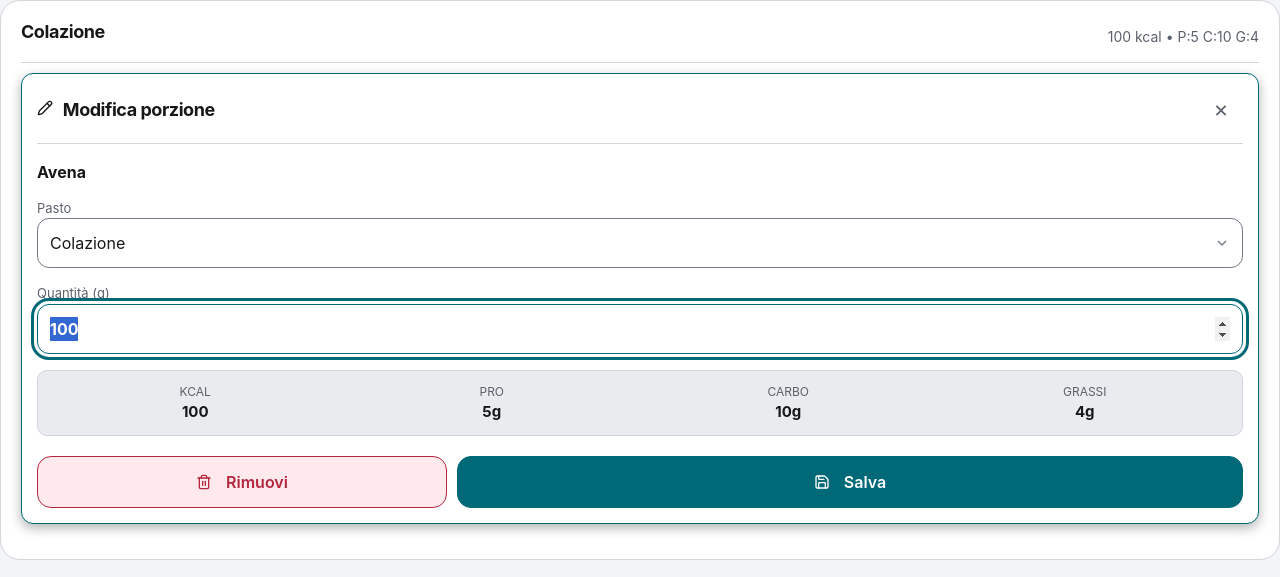
Scenario: NutritionMeals decomposition parity › keeps an unsaved quantity editable until the asynchronous device commit succeeds
The image size is (1280, 577).
Replace the text in the number field with "75" at (640, 328), box [37,304,1243,354]
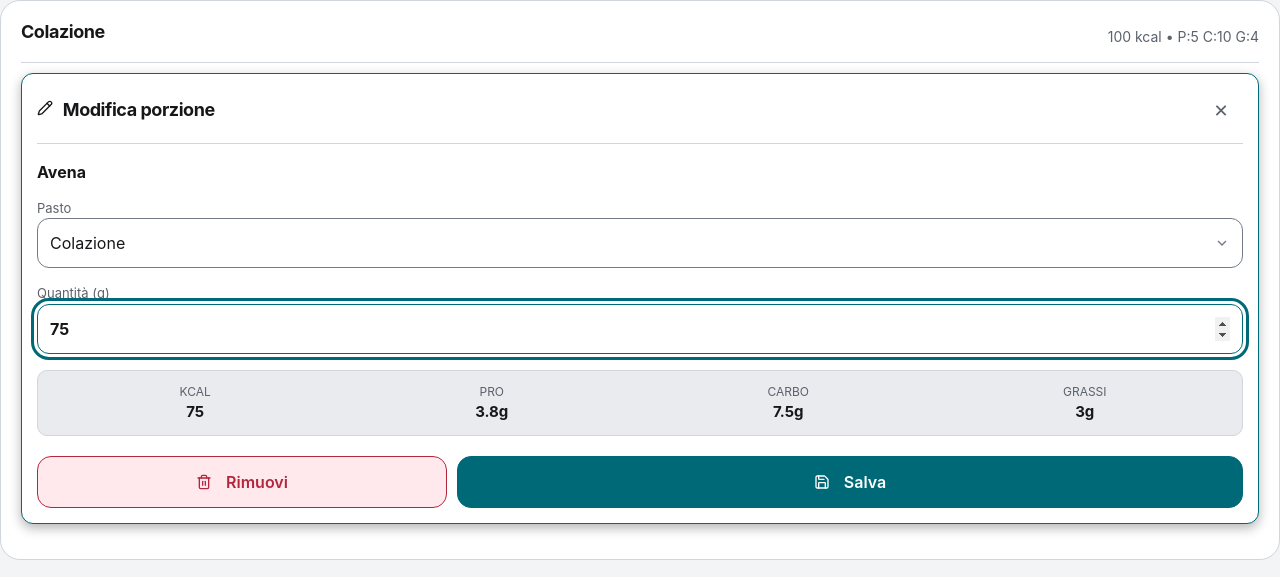
Click the button "Salva" at (850, 482), box [457,456,1243,508]
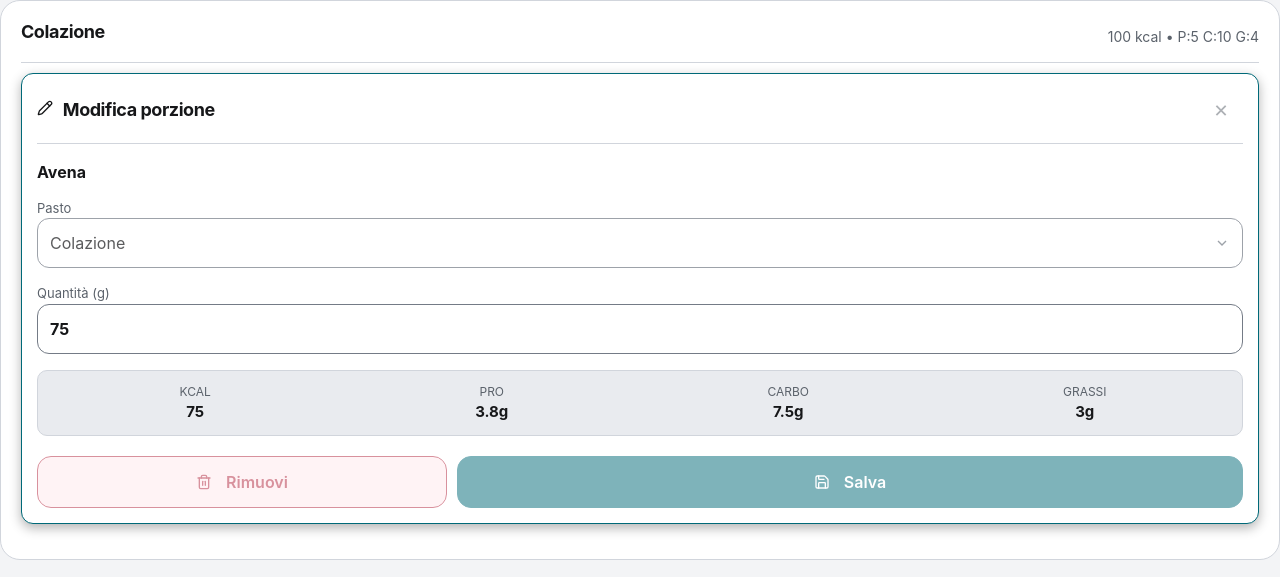
Click the button "Salva" at (850, 482), box [457,456,1243,508]
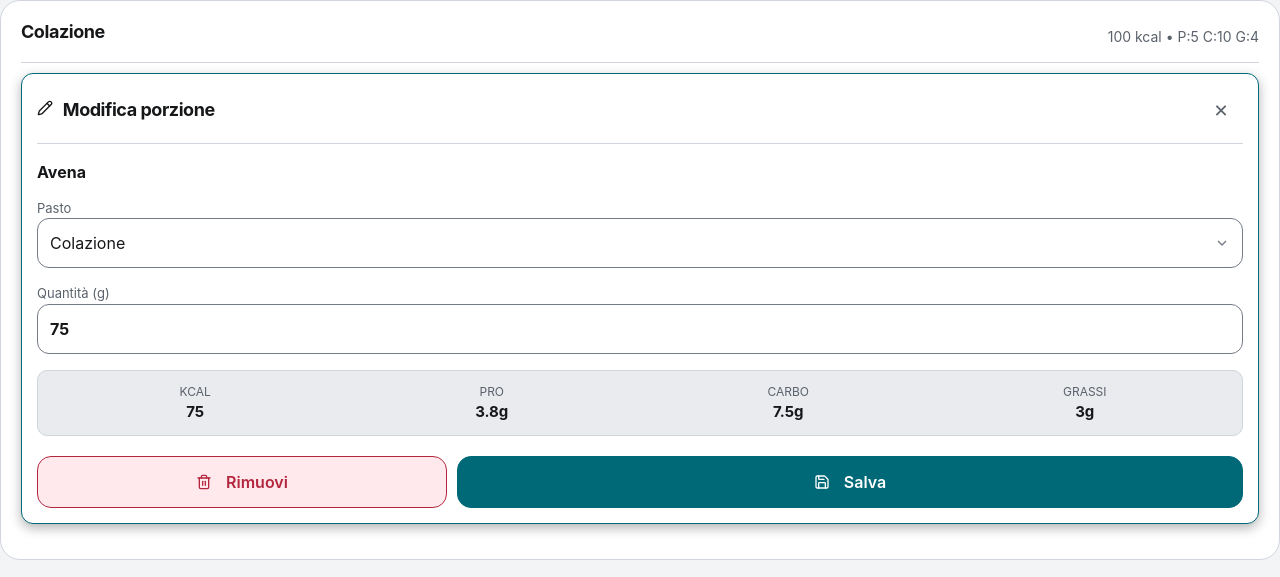
Expected: the heading "Modifica porzione" is shown, [37,99,215,122]
Click the button "Salva" at (850, 482), box [457,456,1243,508]
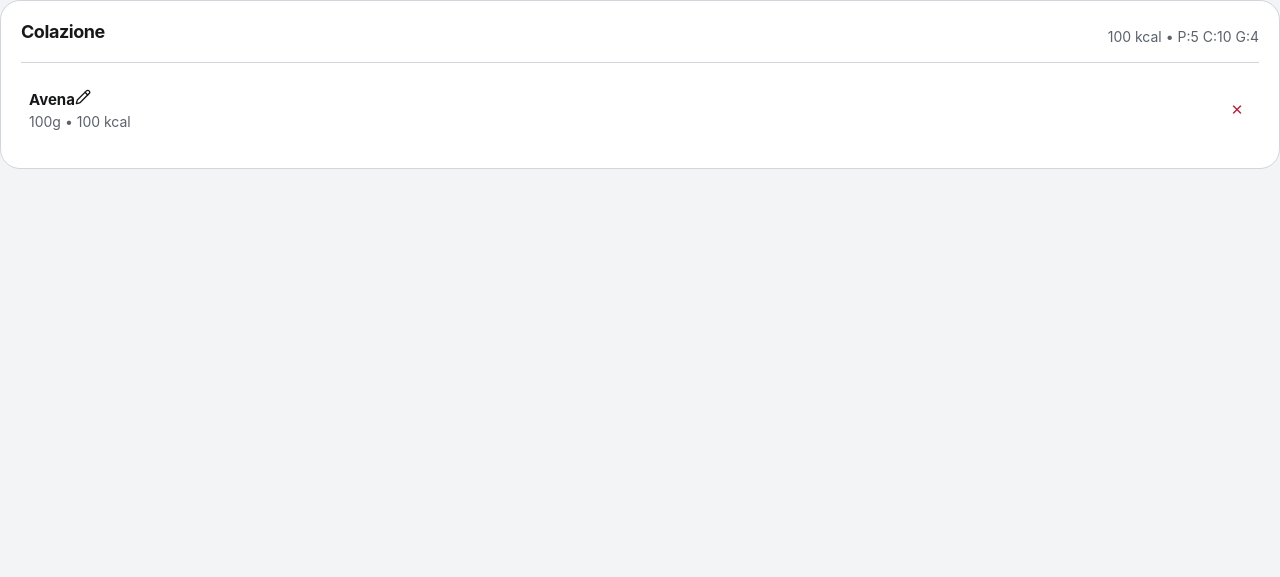
Now the heading "Modifica porzione" is gone
